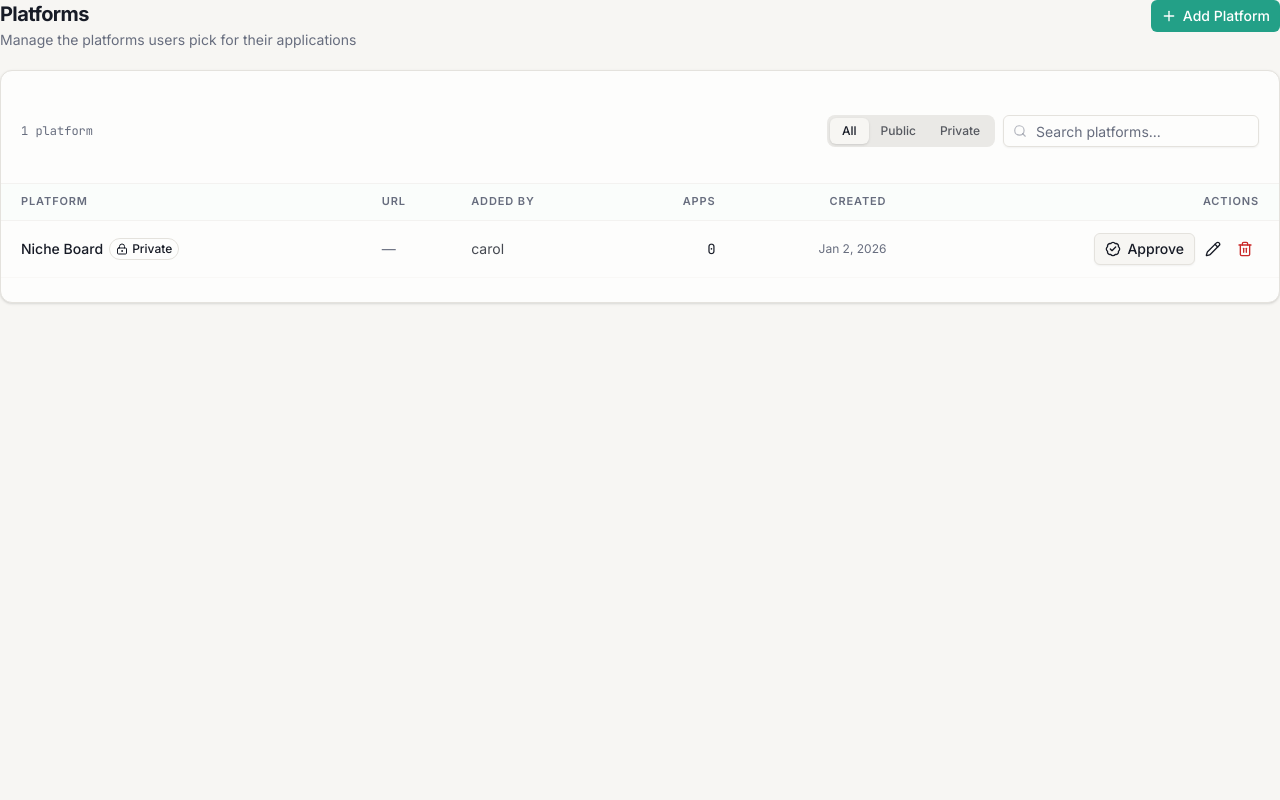
Test: PlatformsPage › shows the 409 detail verbatim and keeps the dialog open on a colliding publish
Expected: the text "Niche Board" is shown, [21,239,103,259]
Step 1. Click the button with aria-label "Approve Niche Board" → click(1145, 249), box [1094,233,1195,265]
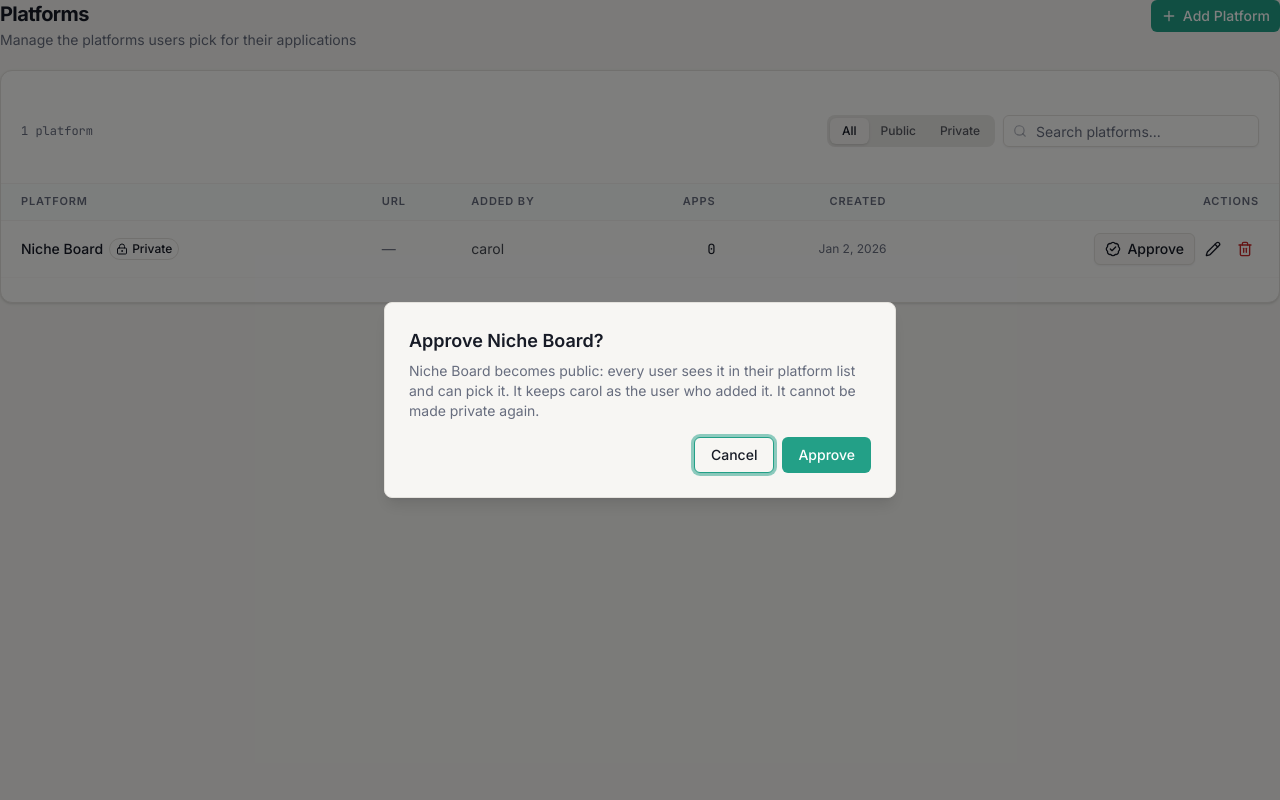
Step 2. Click the button "Approve" → click(827, 455), box [782,437,871,473]
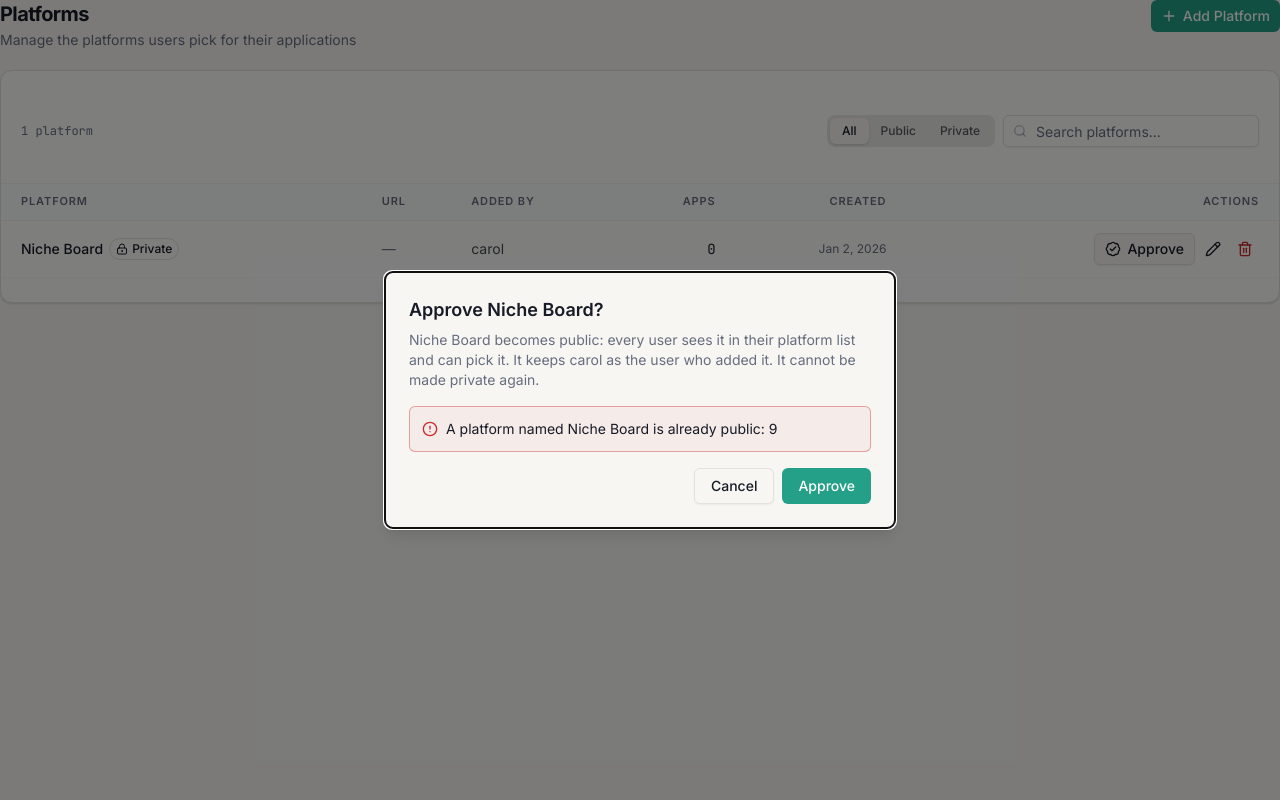
Expected: the text "A platform named Niche Board is already public: 9" is shown, [446,419,778,439]
